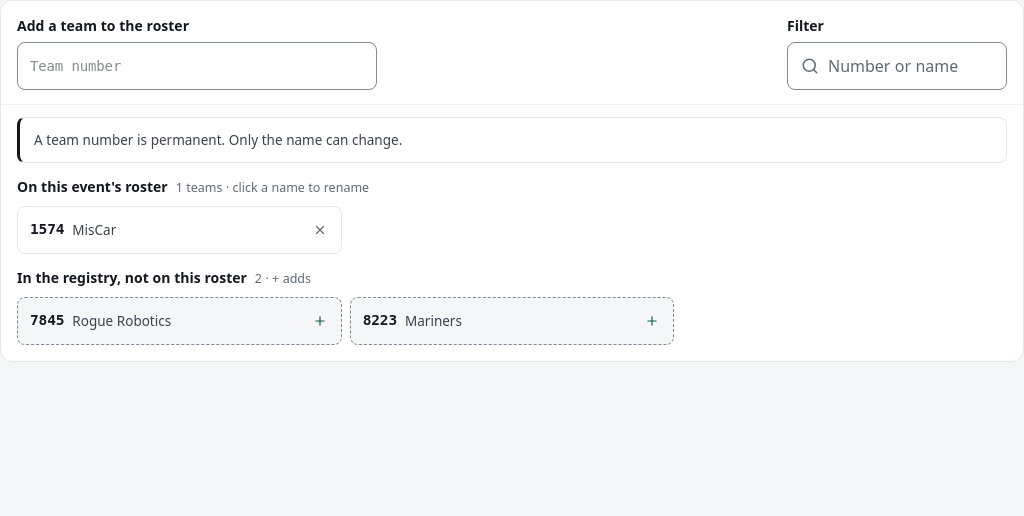
RosterPanel failures › retrying an add after the roster save failed does not create the team twice
Type "9036" into the dropdown at coordinates (197, 66), box [17,42,377,90]
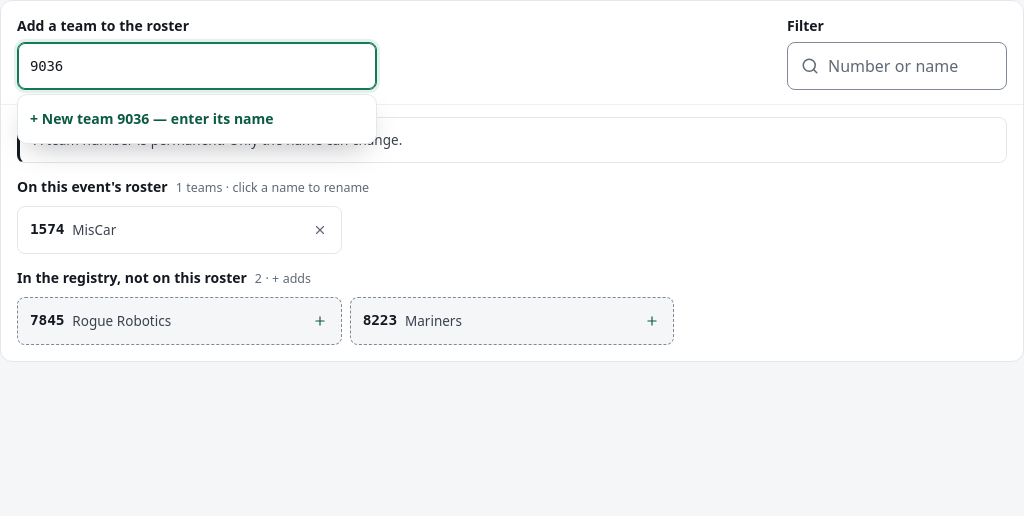
Click the option "+ New team 9036 — enter its name" at coordinates (152, 118), box [30,109,274,128]
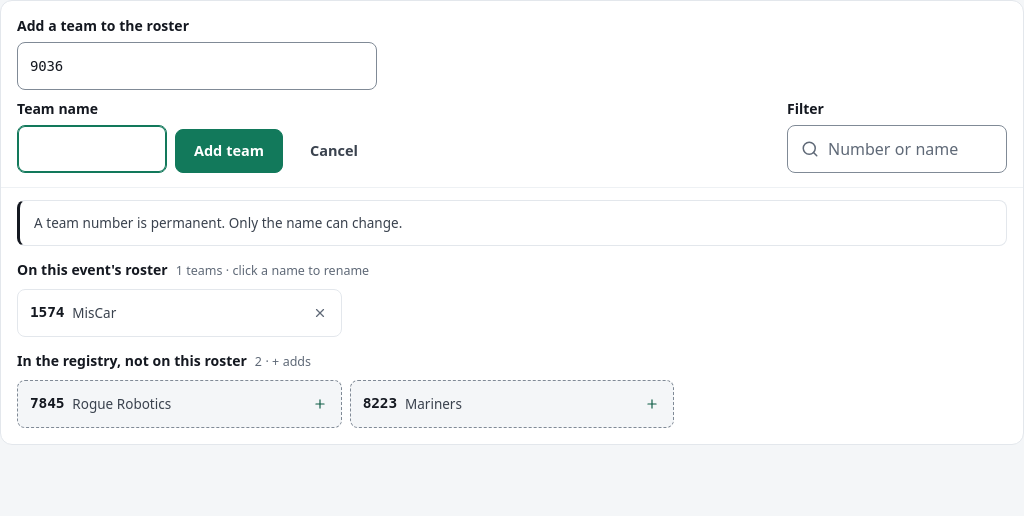
Type "Cyber Owls" into the field labelled "Team name" at coordinates (92, 149), box [17,125,167,173]
Then press Enter
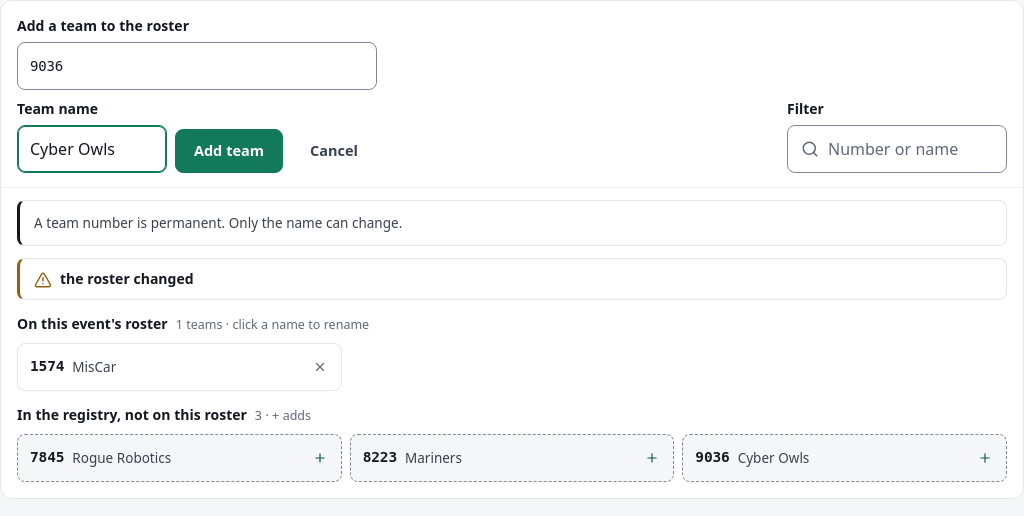
Check: the message reads "the roster changed", box [60,269,194,288]
Click the button "Add team" at coordinates (229, 151), box [175,129,283,173]
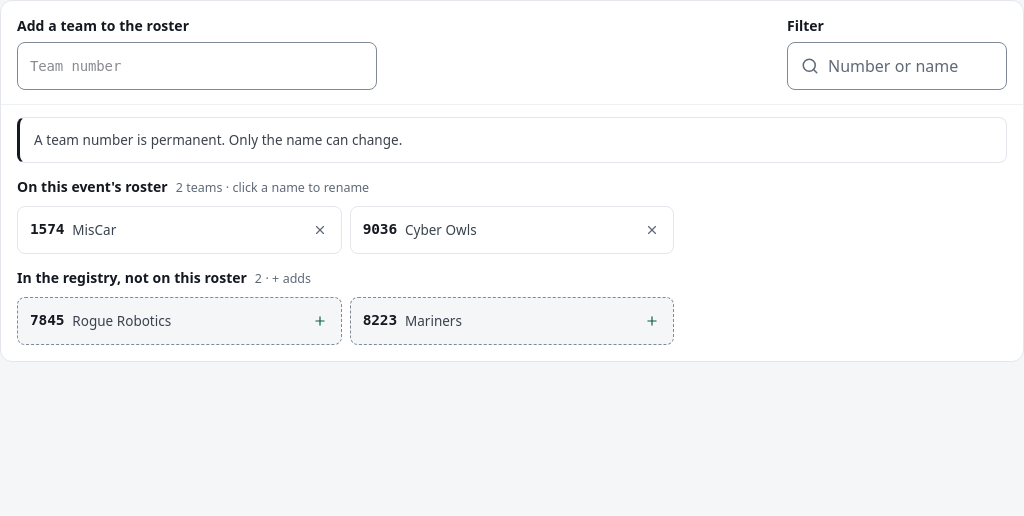
Check: the button "Cyber Owls" is shown, box [405,206,629,254]
Check: the message "the roster changed" is gone
